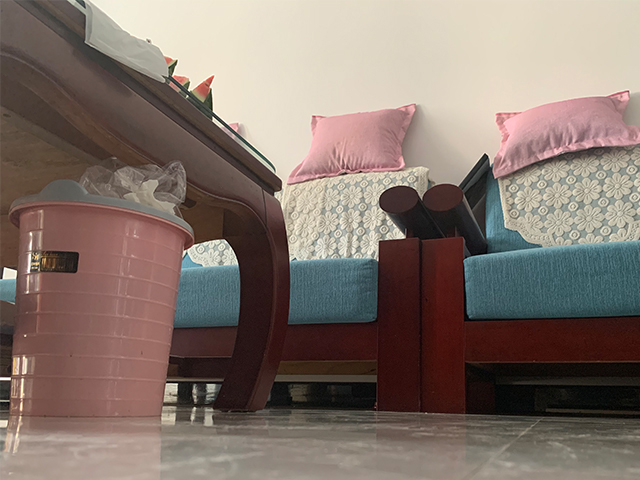sofa: (426, 133, 640, 407), (195, 170, 420, 409)
table: (1, 1, 291, 414)
trashcan: (7, 178, 197, 418)
